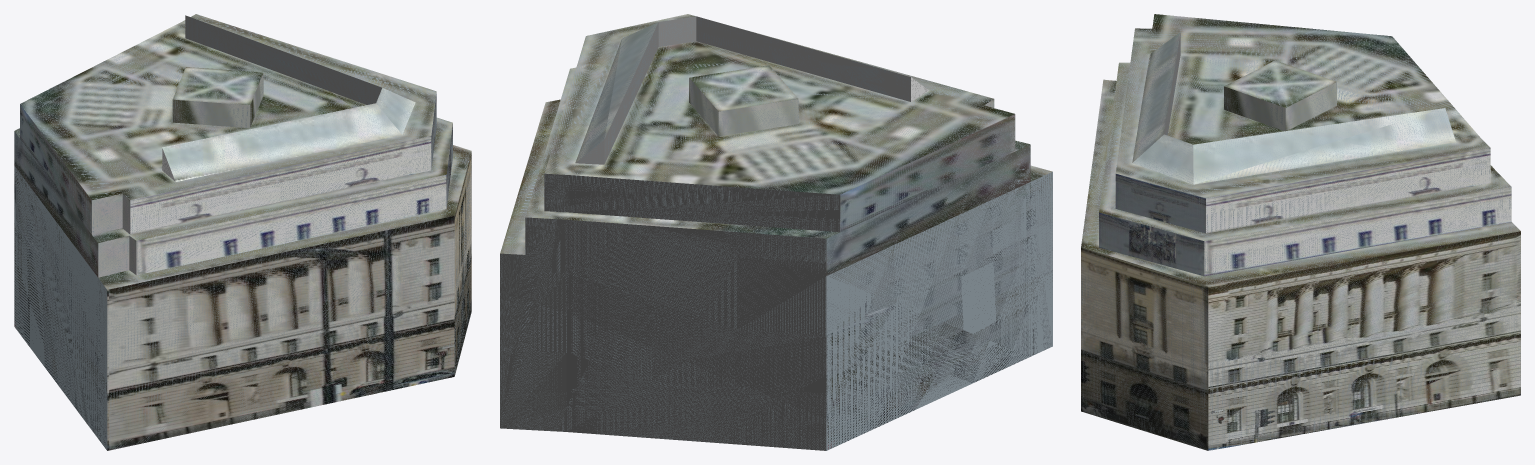
File: 1.2 1 queen victoria street london.dae
3 views of the same model, side by side, from view 1: azimuth 30°, elevation 25°; view 2: azimuth 150°, elevation 25°; view 3: azimuth 270°, elevation 25° (orthographic). The views are drawn at different scales.
Visible parts, largest first — view 1: group_0 (×14); view 2: group_0 (×10); view 3: group_0 (×11).
Part boxes in pixels (bbox=[...]): group_0 (×14): bbox=[14, 14, 471, 450]; group_0 (×10): bbox=[500, 14, 1052, 450]; group_0 (×11): bbox=[1081, 14, 1520, 450].
Bounding box in the file's own units: 1489 × 1337 × 866.
Materials: 23 (19 with a texture image).
